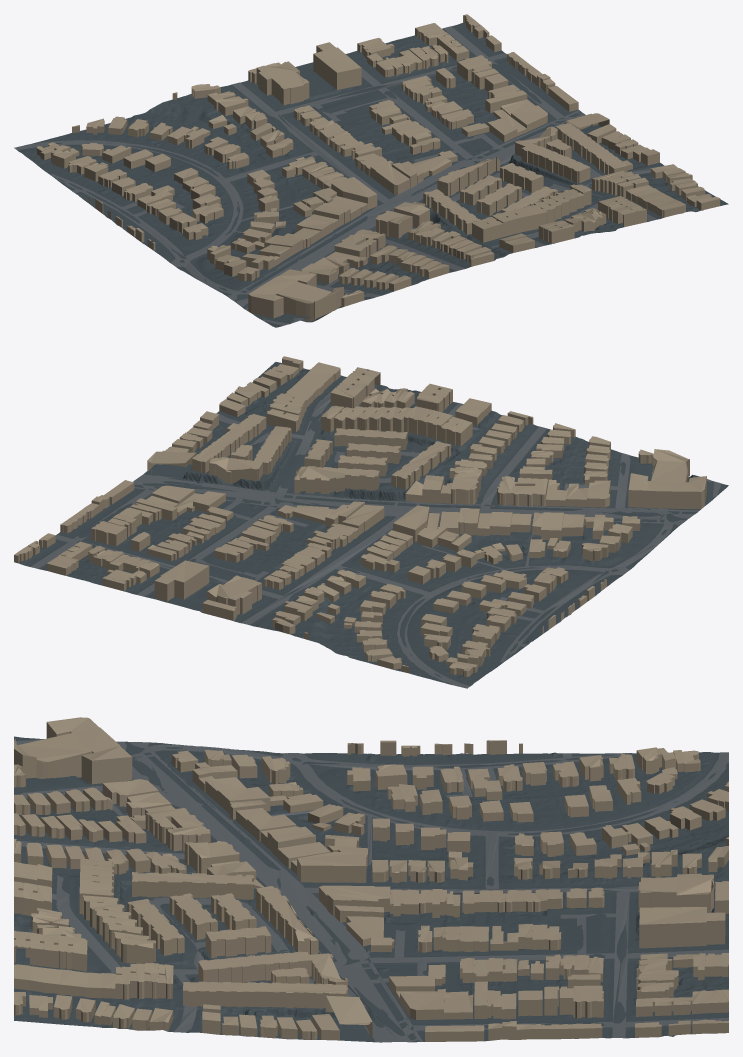
The model's file is epsg26910-1425-10873.lod0.glb.
The picture shows the model from 3 angles, top to bottom: view 1: azimuth 30°, elevation 25°; view 2: azimuth 150°, elevation 25°; view 3: azimuth 270°, elevation 25°; orthographic projection. The views are drawn at different scales.
Parts seen in each view (by area): view 1: epsg26910-1425-10873-lod0; view 2: epsg26910-1425-10873-lod0; view 3: epsg26910-1425-10873-lod0.
Part boxes in pixels (x1=…): epsg26910-1425-10873-lod0: x1=14, y1=14, x2=728, y2=327; epsg26910-1425-10873-lod0: x1=14, y1=356, x2=728, y2=688; epsg26910-1425-10873-lod0: x1=14, y1=717, x2=728, y2=1042.
Size of the model in its own units: 384 by 35.39 by 384.
